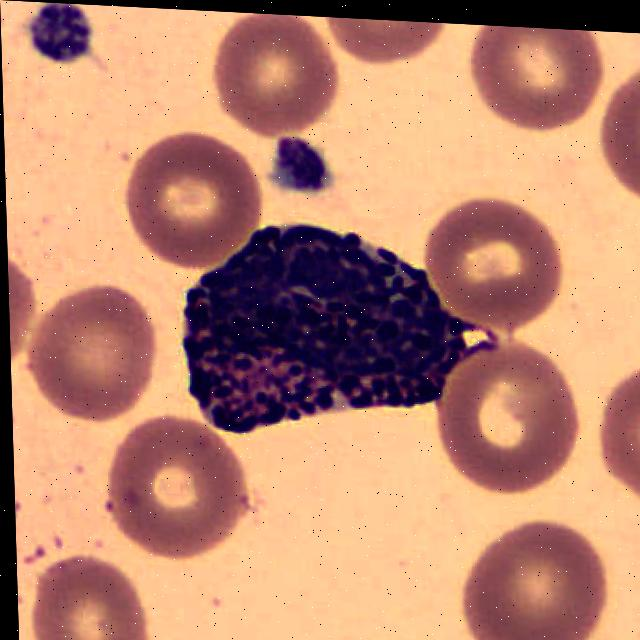basophil: (155, 216, 452, 455)
platelets: (20, 1, 105, 75), (257, 126, 331, 198)
rbc: (88, 409, 258, 573), (423, 332, 585, 502), (430, 521, 609, 640), (429, 195, 580, 333), (117, 119, 256, 264), (23, 283, 151, 429), (201, 11, 344, 136), (463, 24, 602, 136), (27, 546, 155, 640), (324, 17, 455, 74), (594, 74, 640, 222), (598, 356, 640, 506), (7, 250, 31, 387)
